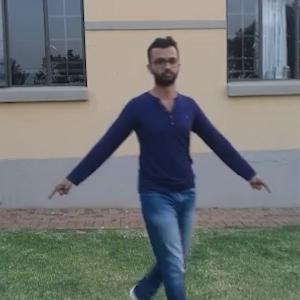land: (86, 51, 247, 289)
